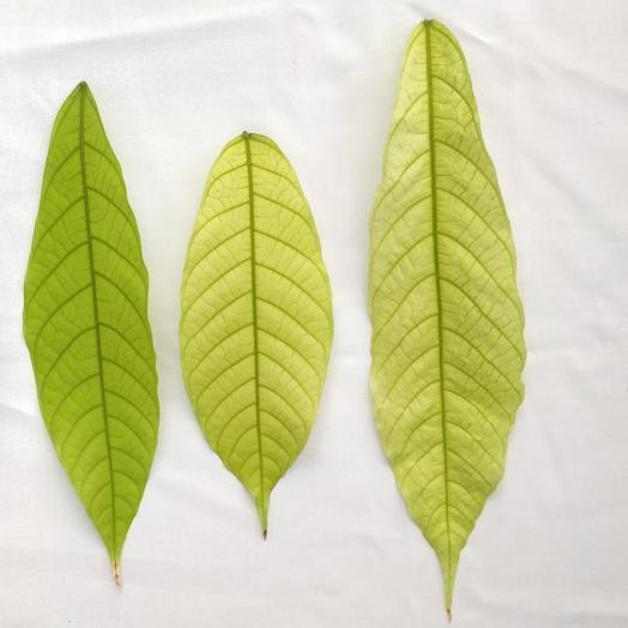Iron: (369, 20, 525, 618), (24, 82, 157, 582), (179, 132, 332, 537)
